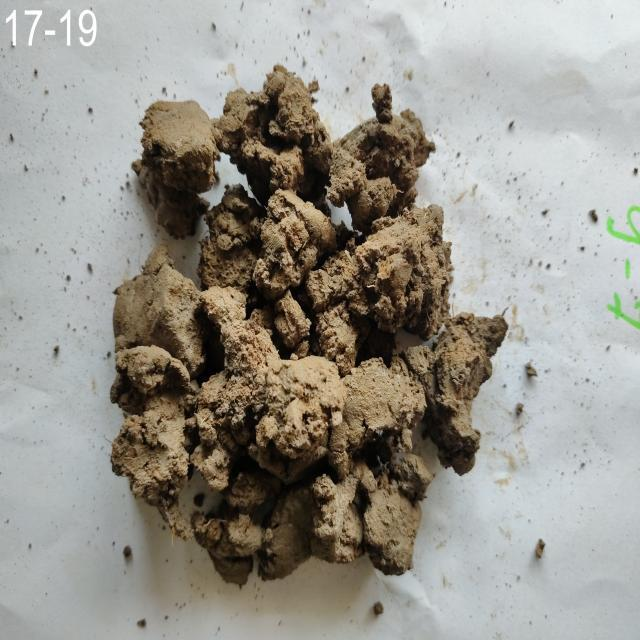soil: (194, 152, 414, 500)
